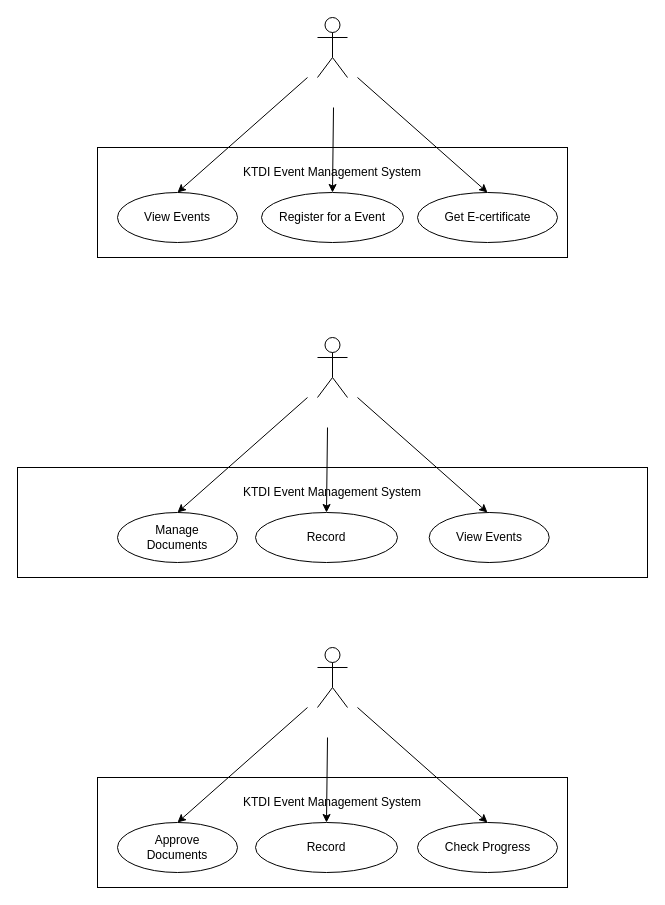
Some shapes in this 665 by 905 pixel diagram are drawn without their labels. The shapes that lost their labels are listed below. From the top down, each one's box as (x1, y1, x2, y2) in pixels, then its label:
(316, 16, 348, 78): Student
(316, 336, 348, 398): JKM KTDI
(316, 646, 348, 708): Admin
